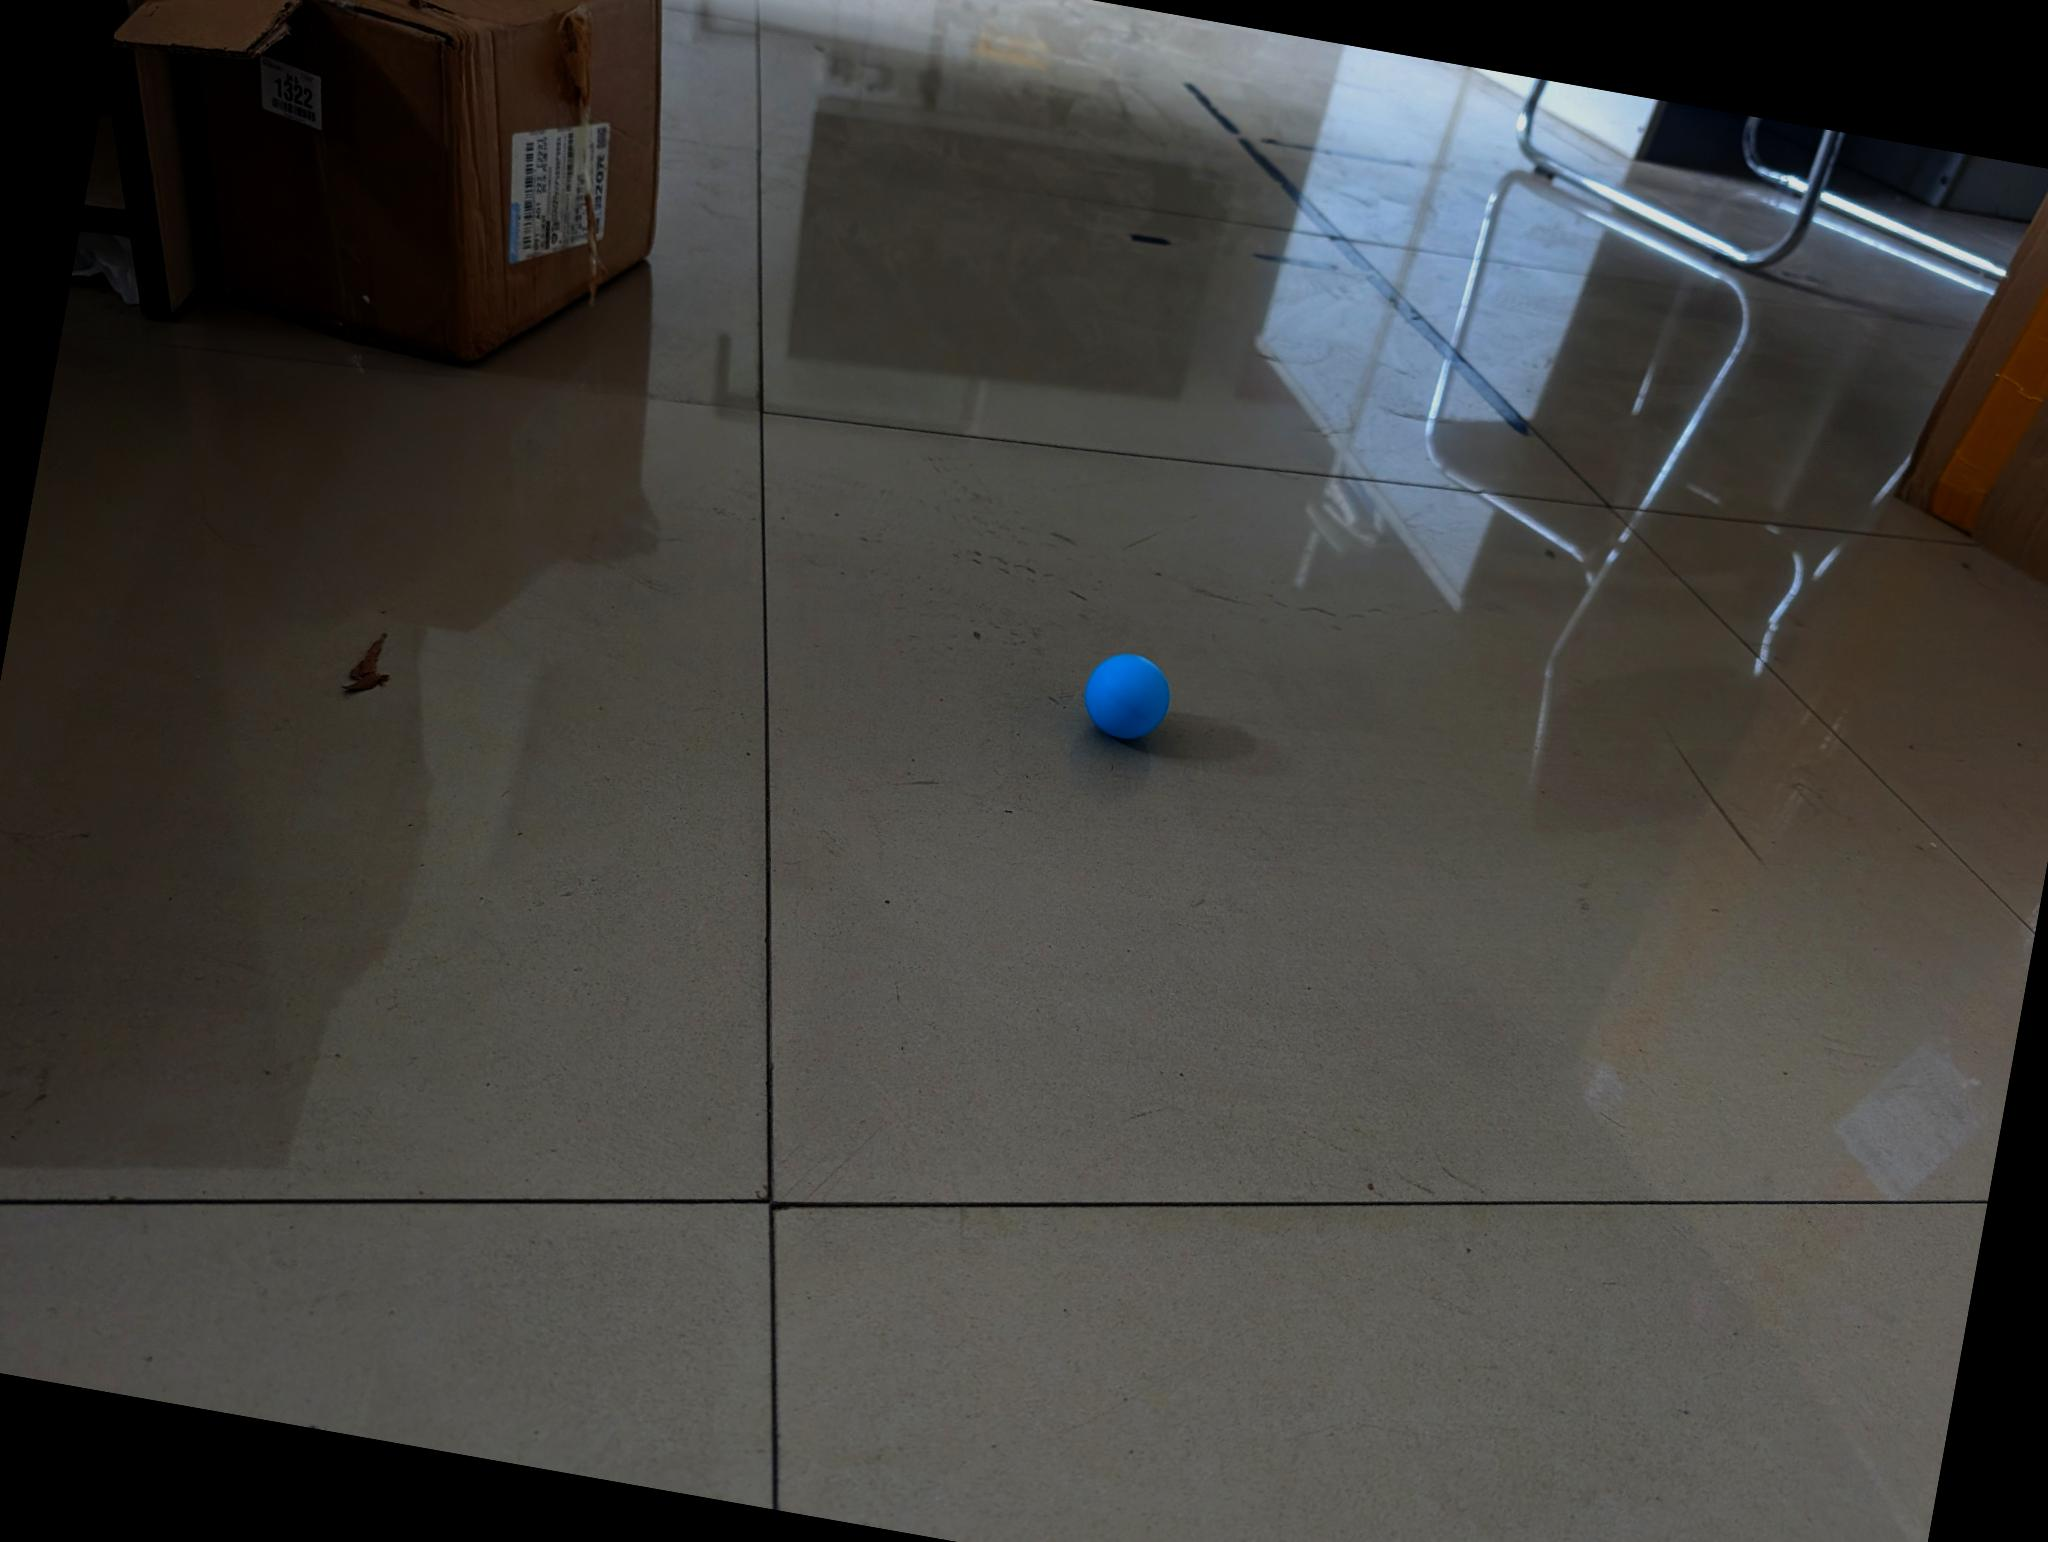ball: (1077, 644, 1177, 756)
